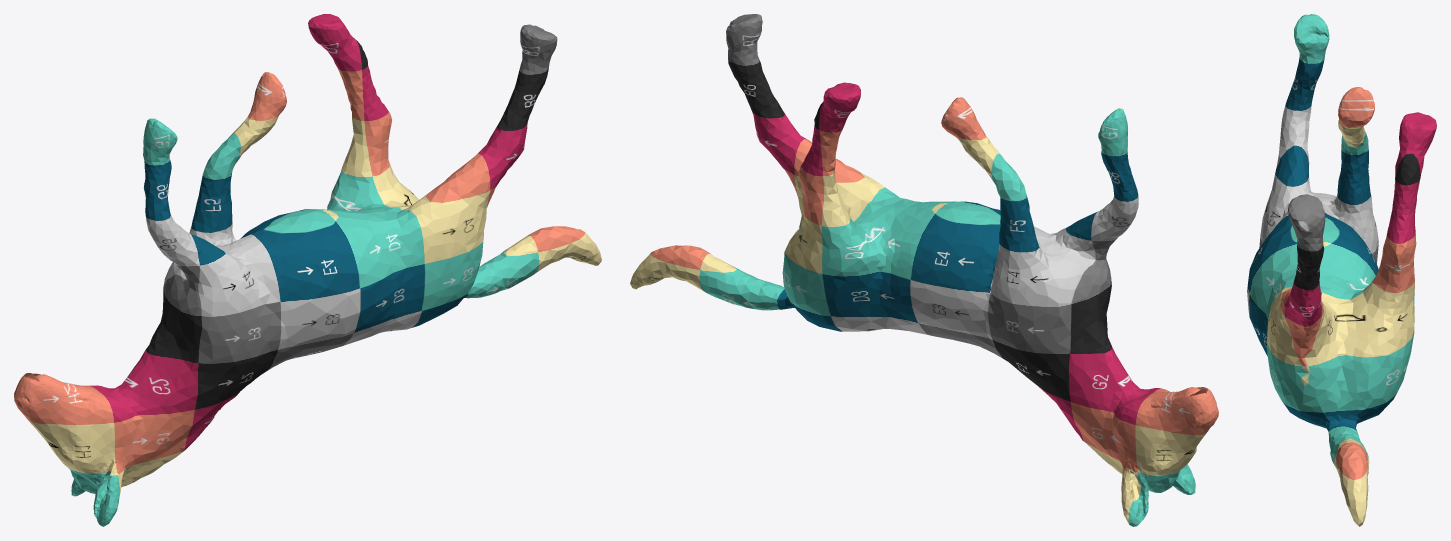
The model's file is horse_02.obj.
3 renders of one model, left to right at view 1: azimuth 30°, elevation 25°; view 2: azimuth 150°, elevation 25°; view 3: azimuth 270°, elevation 25°, orthographic. The views are drawn at different scales.
Visible parts, largest first — view 1: horse_02_export; view 2: horse_02_export; view 3: horse_02_export.
Boxes of the visible parts, left/top/right/bottom form: horse_02_export: left=14, top=14, right=601, bottom=526; horse_02_export: left=630, top=14, right=1218, bottom=526; horse_02_export: left=1247, top=14, right=1436, bottom=526.
Bounding box in the file's own units: 1.21 × 0.7725 × 0.3328.
